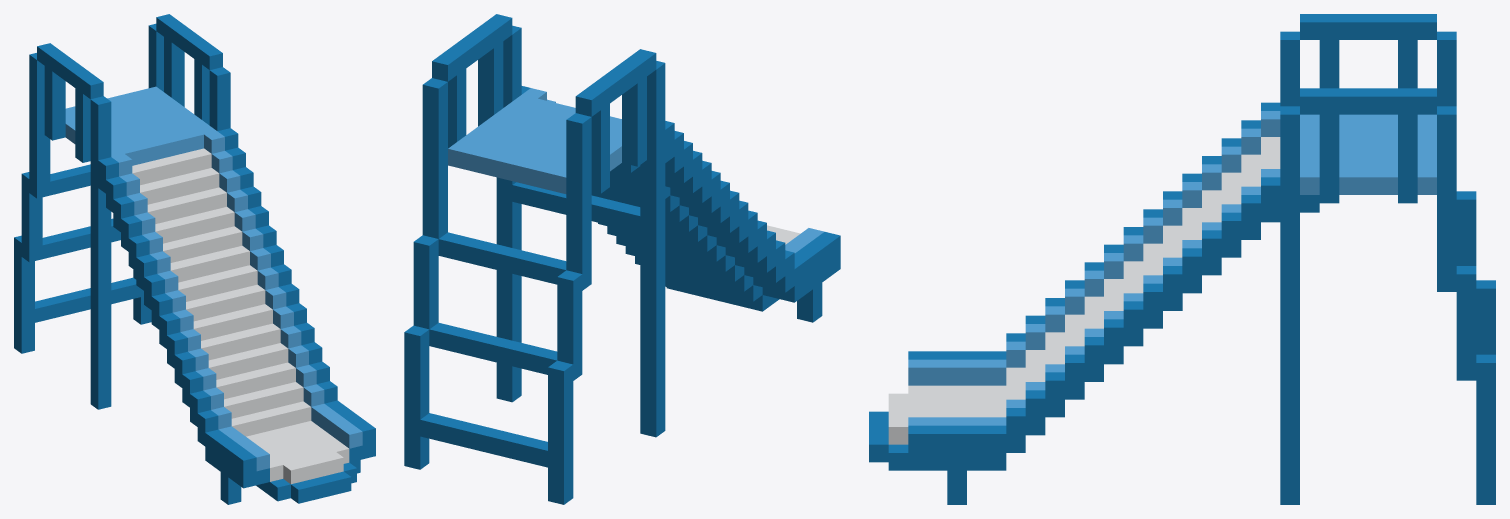
File: Playground_Slide.glb
3 views of the same model, side by side, from view 1: azimuth 30°, elevation 25°; view 2: azimuth 150°, elevation 25°; view 3: azimuth 270°, elevation 25° (orthographic). The views are drawn at different scales.
Visible parts, largest first — view 1: Playground_Slide; view 2: Playground_Slide; view 3: Playground_Slide.
Boxes of the visible parts, <box> form: Playground_Slide: <box>14,14,375,504</box>; Playground_Slide: <box>404,14,840,504</box>; Playground_Slide: <box>869,14,1495,504</box>.
Bounding box in the file's own units: 1 × 2.3 × 3.2.
1 material, 1 textured.
